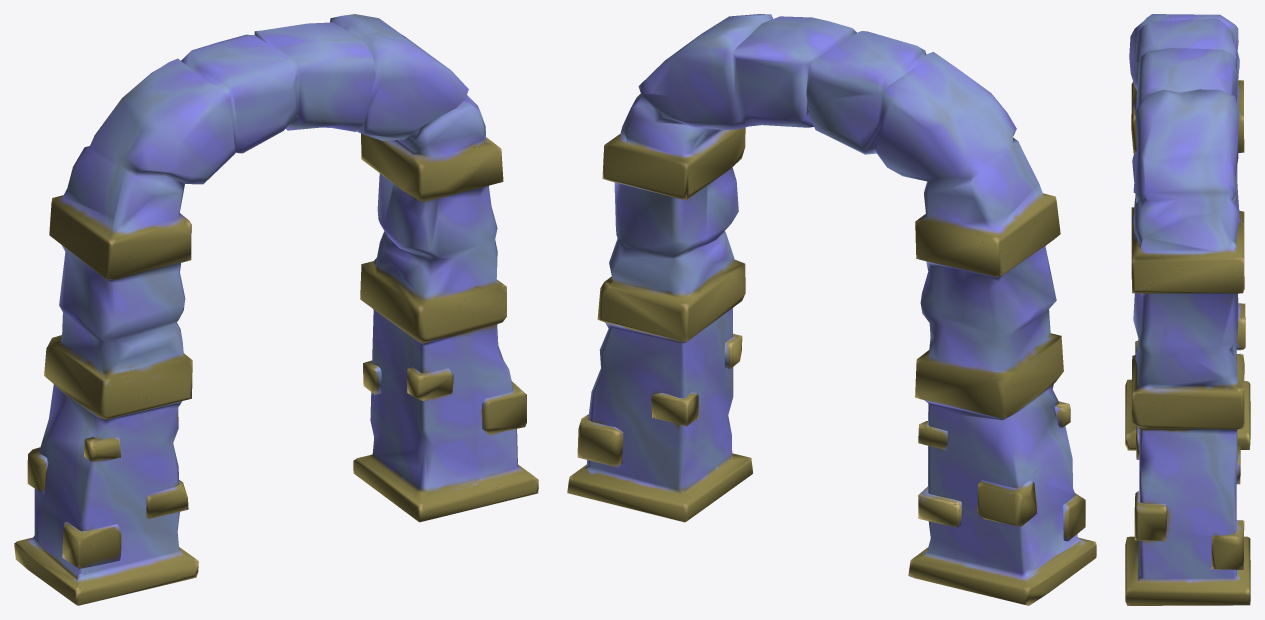
File: breakableWallFrame.glb
The picture shows the model from 3 angles, left to right: view 1: azimuth 30°, elevation 25°; view 2: azimuth 150°, elevation 25°; view 3: azimuth 270°, elevation 25°; orthographic projection. The views are drawn at different scales.
Parts seen in each view (by area): view 1: Mesh_0.005; view 2: Mesh_0.005; view 3: Mesh_0.005.
Part boxes in pixels (box(x1,y1,x2,y2)): Mesh_0.005: box(14, 14, 538, 605); Mesh_0.005: box(567, 14, 1096, 605); Mesh_0.005: box(1125, 14, 1250, 605).
Bounding box in the file's own units: 2 × 2 × 0.5.
Materials: 1 (1 with a texture image).
